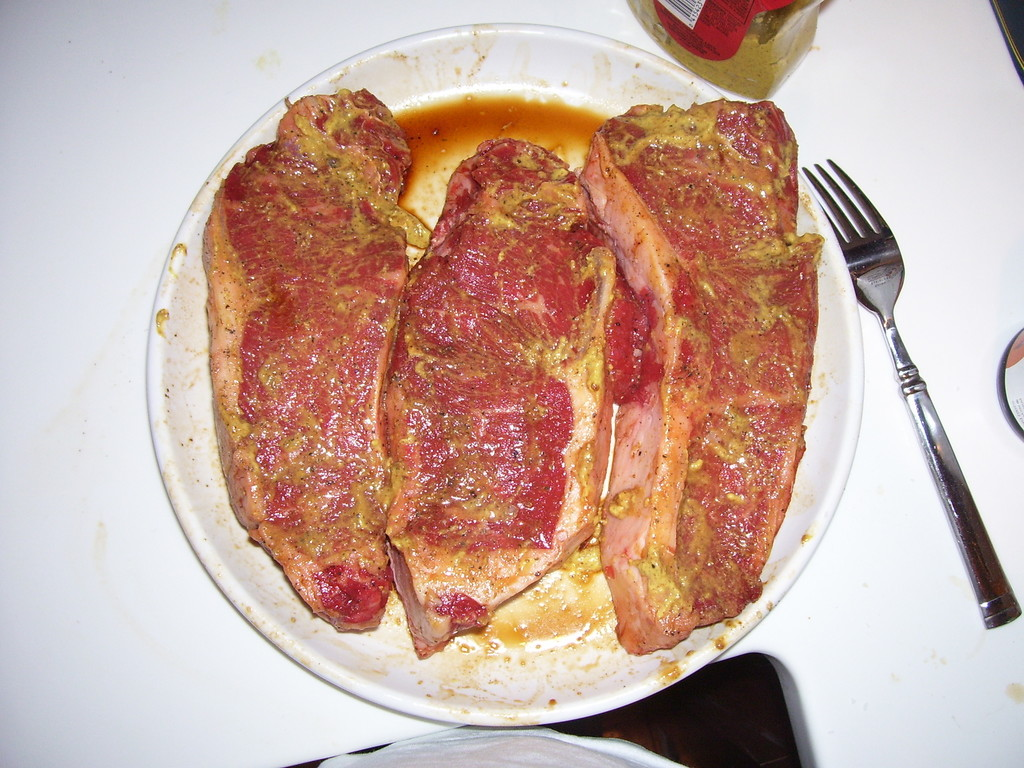fork: (800, 157, 1022, 629)
